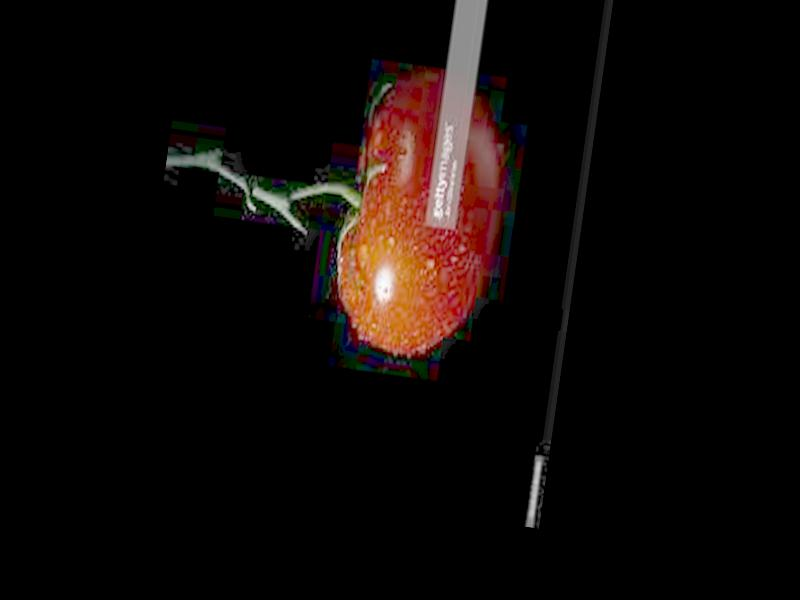Tomato: (329, 72, 511, 363)
